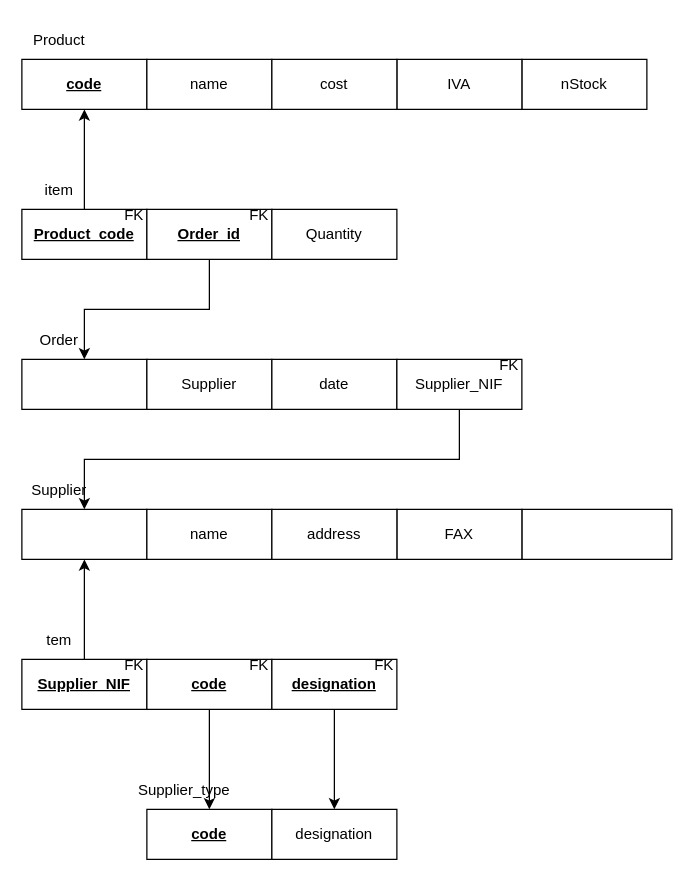
The diagram is 694 pixels wide and 881 high, and some of its shapes have lost their labels. Here are the shapes that lost their labels. From the top down, the centre of each, then its label:
At pixel 84 383: "ID".
At pixel 84 533: "NIF".
At pixel 596 533: "payment_conditions".
